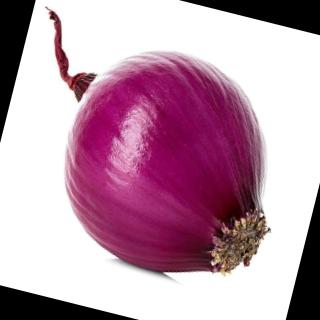Bawang Merah: (29, 25, 310, 302)
